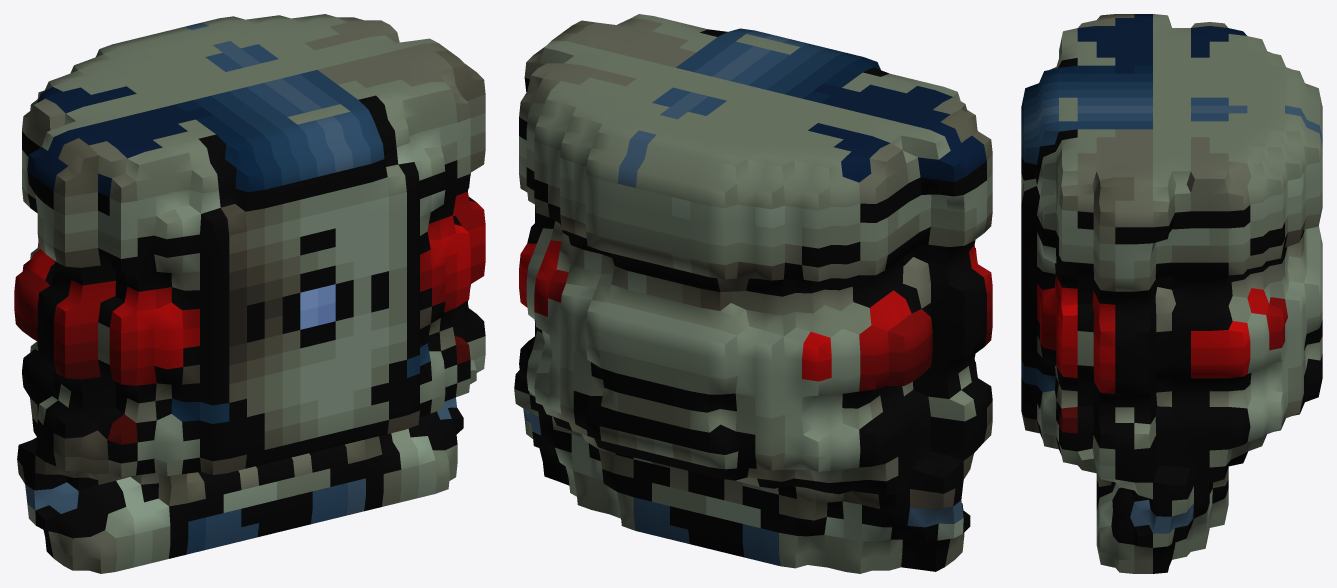
Rendered from Icon_747_02.obj.
3 views of the same model, side by side, from view 1: azimuth 30°, elevation 25°; view 2: azimuth 150°, elevation 25°; view 3: azimuth 270°, elevation 25° (orthographic). The views are drawn at different scales.
Bounding box in the file's own units: 2.4 × 2.3 × 1.6.
1 material, 1 textured.
